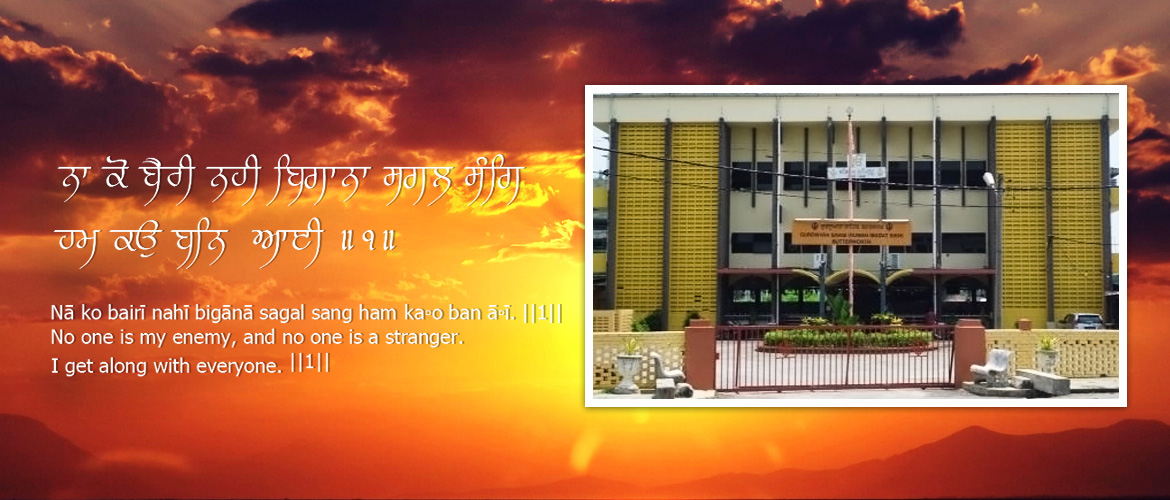Gurdwara: (591, 89, 1114, 391)
